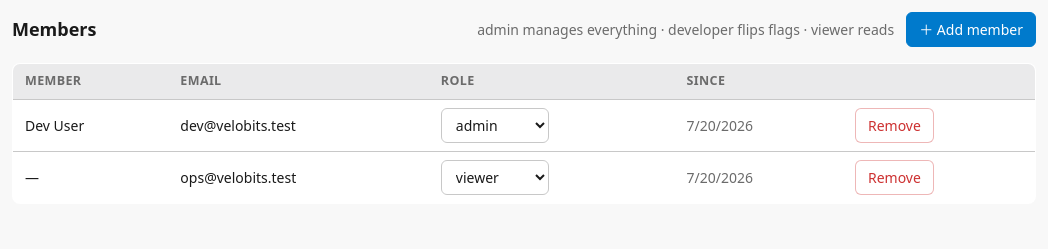
Test: admin controls › surfaces a rejected role change
The width and height of the screenshot is (1048, 249).
Expected: the text "ops@velobits.test" is shown, [168,151,429,203]
Select "admin" in the dropdown named "Role for ops@velobits.test" at x=495, y=177, box [441,160,549,195]
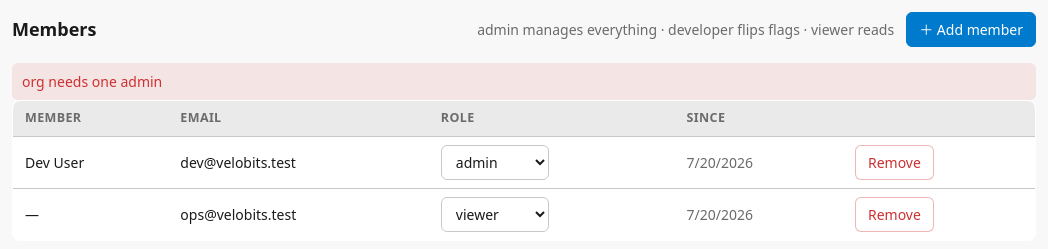
Expected: the text "org needs one admin" is shown, [12,63,1036,100]
